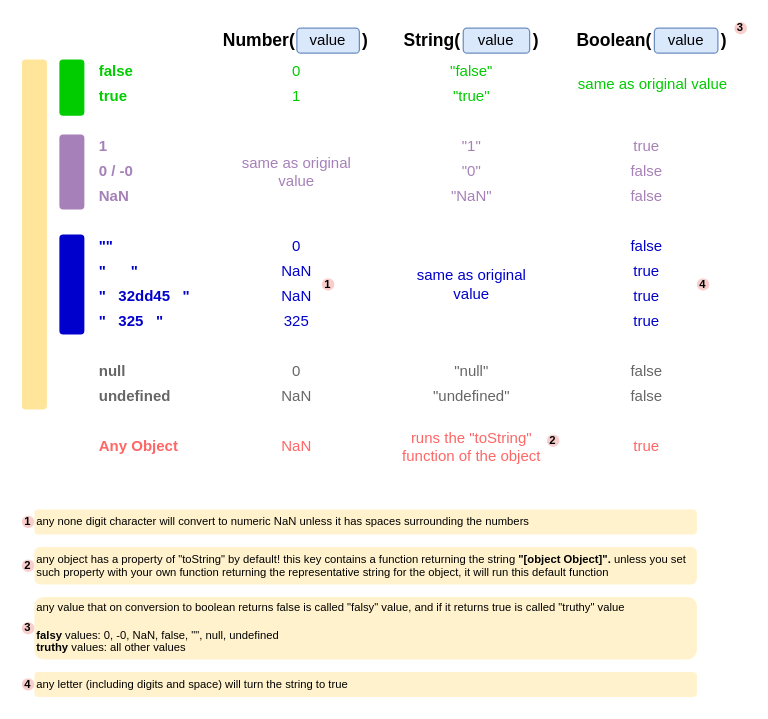
The diagram is 768 pixels wide and 719 high, and some of its shapes have lost their labels. The centre of each missing label's shape, as x and y in pixels:
Booleans: point 71,87
Numbers: point 71,171
Primitives: point 33,234
Strings: point 71,284
